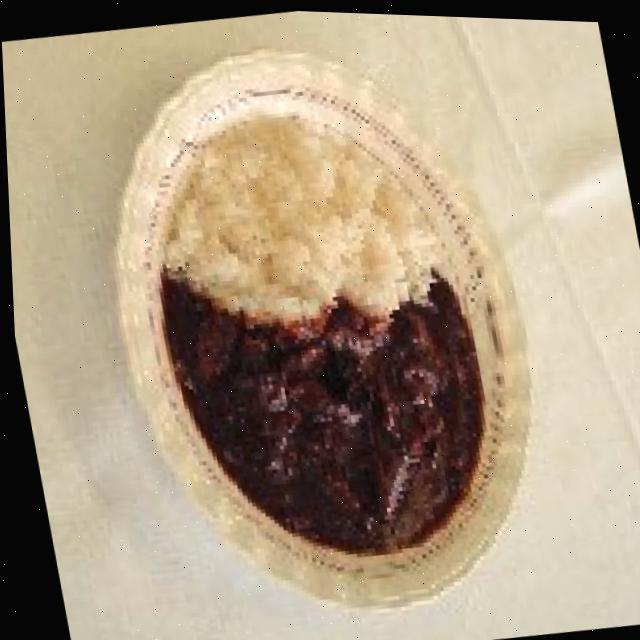牛肉菜式: (74, 21, 571, 640)
